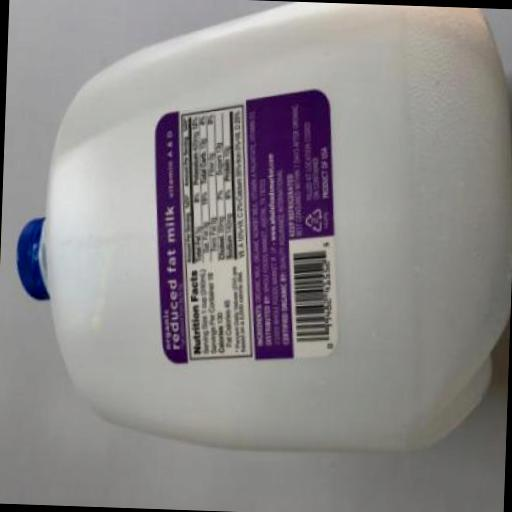plastic: (9, 0, 512, 453), (14, 214, 52, 299)
